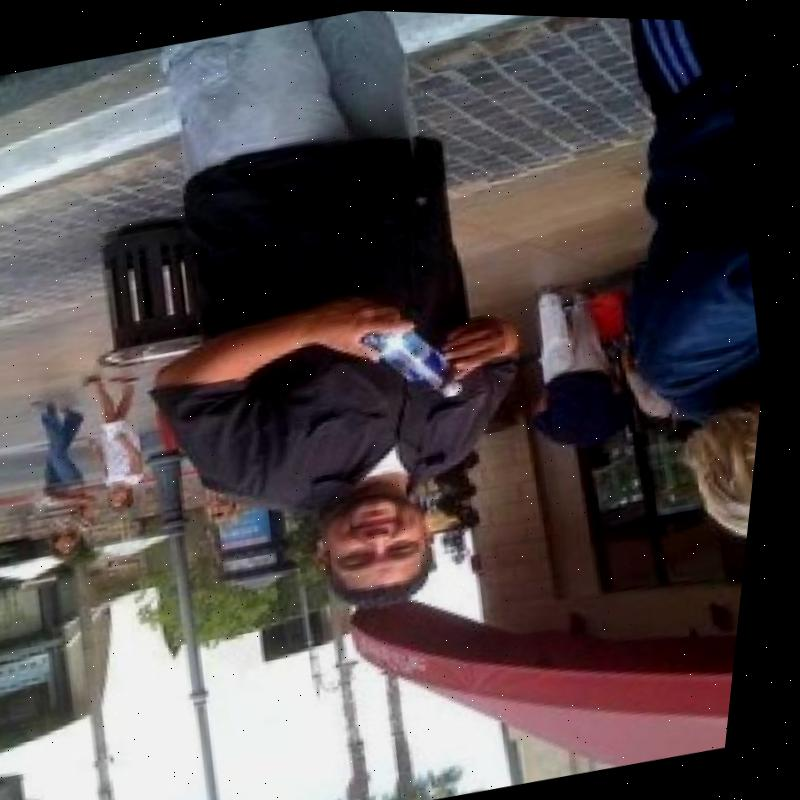botella: (366, 309, 480, 410)
